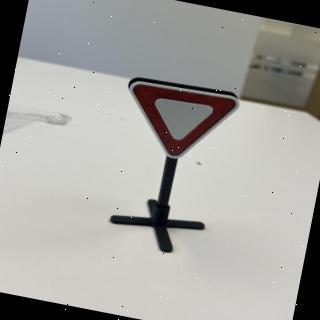sign_yield: (115, 74, 248, 173)
